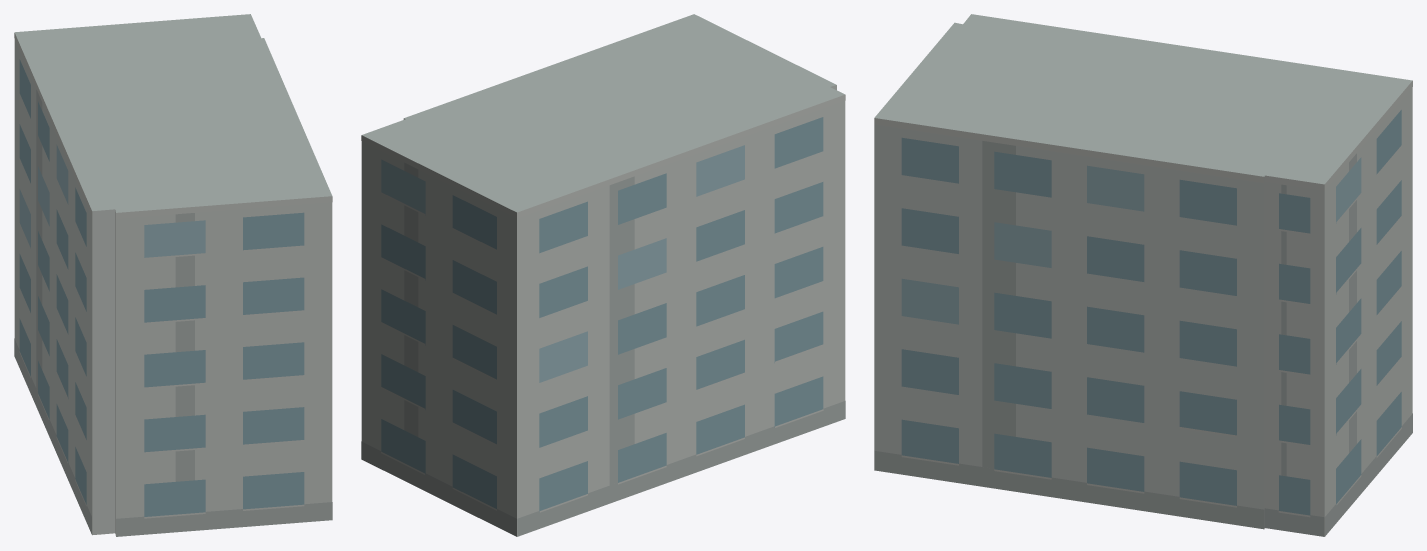
File: survey-upis-32885796.glb
3 renders of one model, left to right at view 1: azimuth 30°, elevation 25°; view 2: azimuth 150°, elevation 25°; view 3: azimuth 270°, elevation 25°, orthographic. The views are drawn at different scales.
Visible parts, largest first — view 1: survey-upis-32885796.tmp; view 2: survey-upis-32885796.tmp; view 3: survey-upis-32885796.tmp.
Boxes of the visible parts, <box> form: survey-upis-32885796.tmp: <box>14,14,332,536</box>; survey-upis-32885796.tmp: <box>361,14,845,536</box>; survey-upis-32885796.tmp: <box>874,14,1412,536</box>.
Bounding box in the file's own units: 13.59 × 13.1 × 18.15.
